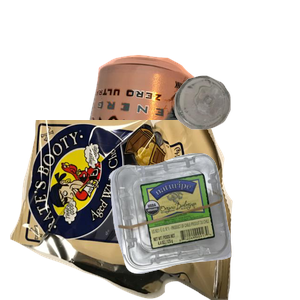glass: (172, 73, 300, 195)
metal: (73, 52, 263, 232)
plastic: (106, 151, 300, 300)
trash: (10, 120, 235, 300)
